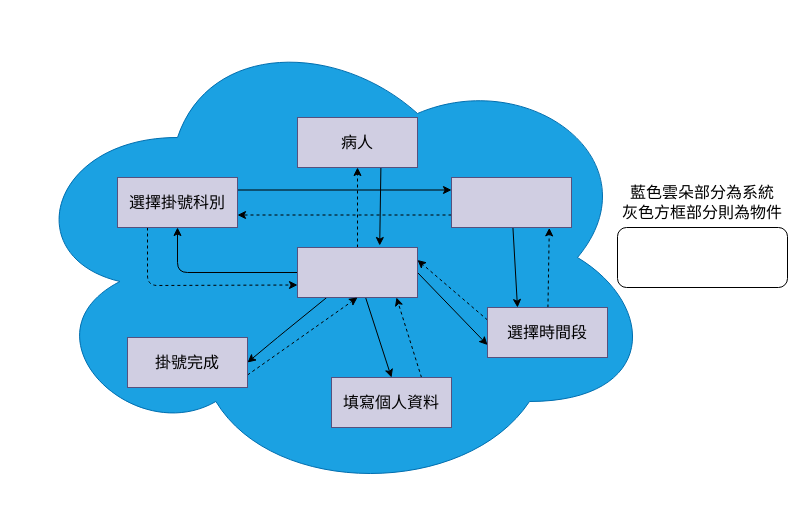
Some shapes in this 805 by 515 pixel diagram are drawn without their labels. Here are the shapes that lost their labels. From the top down, the centre of each, then its label:
(511,202): 選擇醫生
(357,272): 醫院掛號網站
(702,257): 實線:訊息呼叫 虛線:訊息回復
